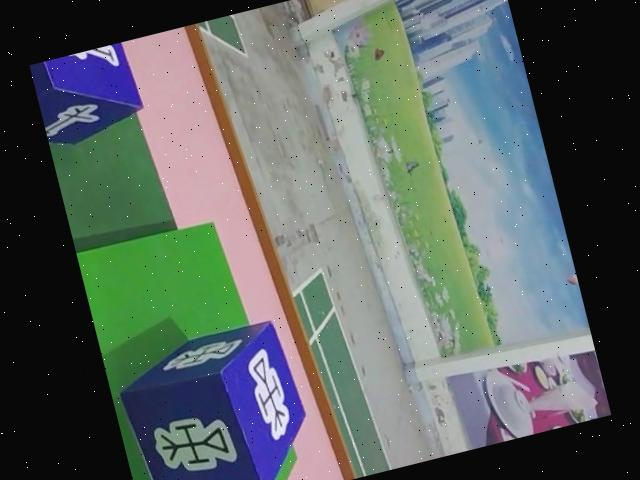R2 Real Blue: (105, 310, 326, 480), (30, 40, 151, 148)
